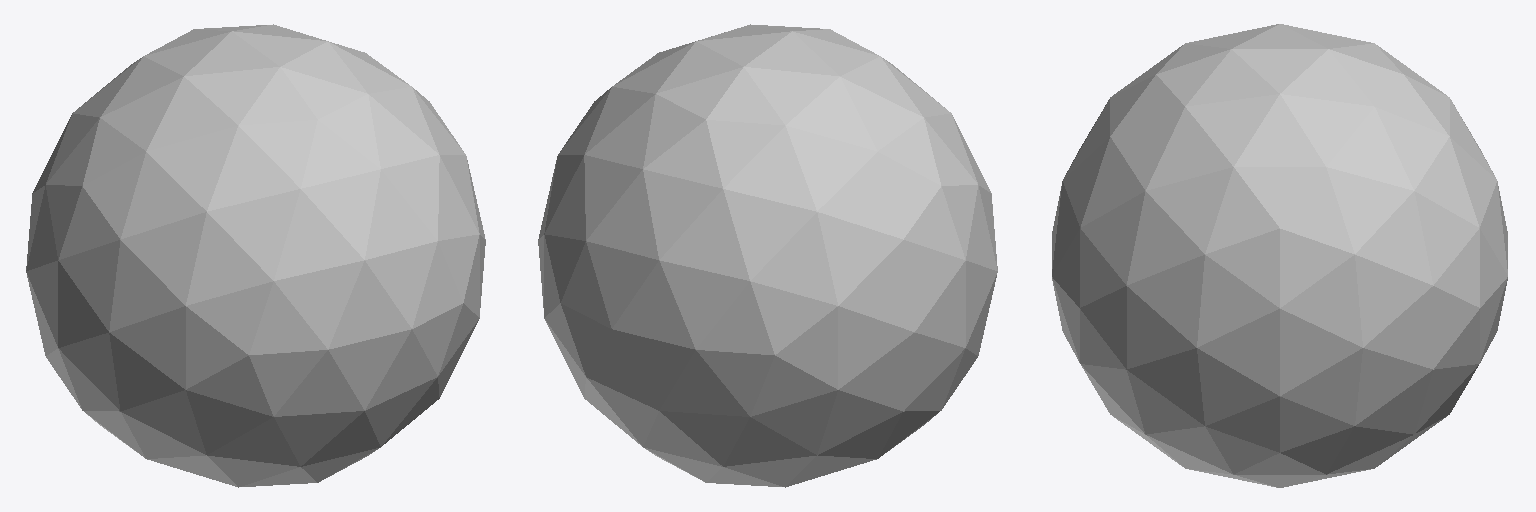
File: SpringB.obj
3 views of the same model, side by side, from view 1: azimuth 30°, elevation 25°; view 2: azimuth 150°, elevation 25°; view 3: azimuth 270°, elevation 25° (orthographic).
Parts seen in each view (by area): view 1: Vis.001; view 2: Vis.001; view 3: Vis.001.
Boxes of the visible parts, x1,y1,x2,y2 form: Vis.001: [26, 24, 485, 487]; Vis.001: [538, 24, 997, 487]; Vis.001: [1052, 24, 1507, 487].
Size of the model in its own units: 0.4847 by 0.4847 by 0.4847.